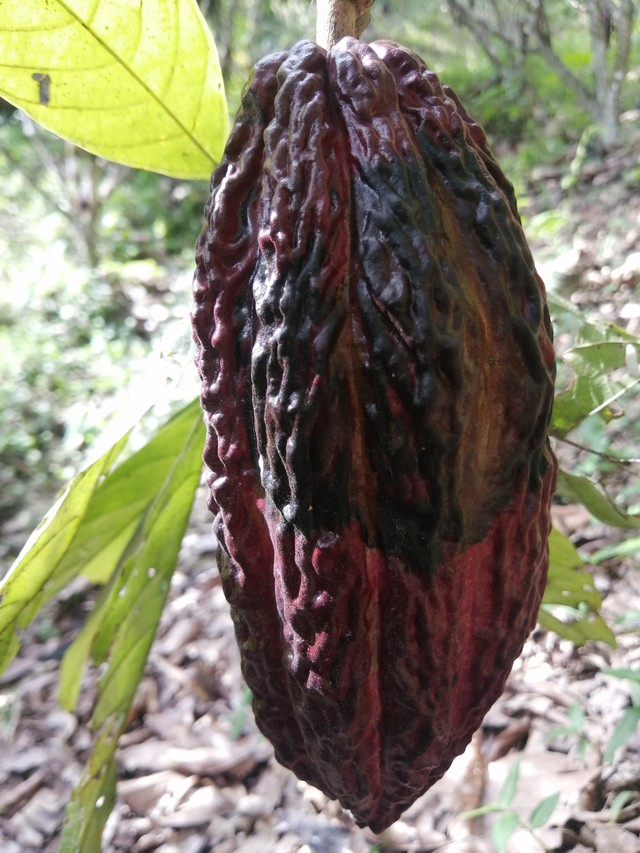phytophthora palmivora: (165, 28, 591, 849)
